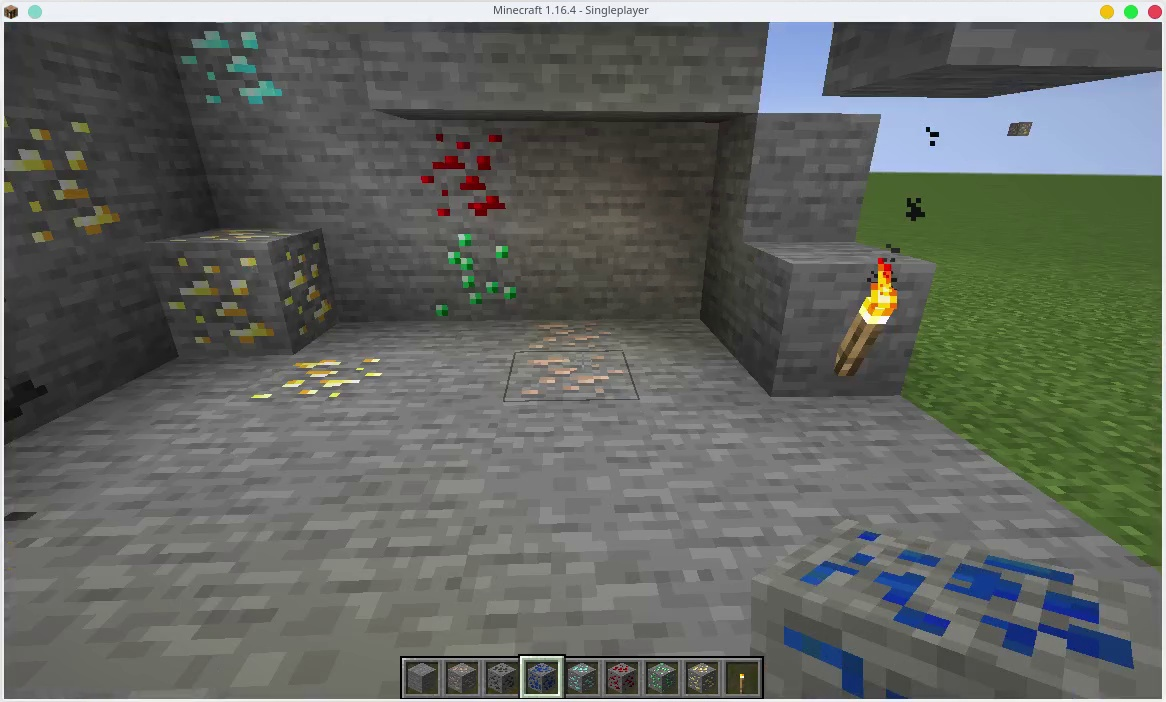gold: (160, 227, 338, 355), (1, 118, 125, 242), (257, 358, 388, 411), (686, 658, 718, 693)
